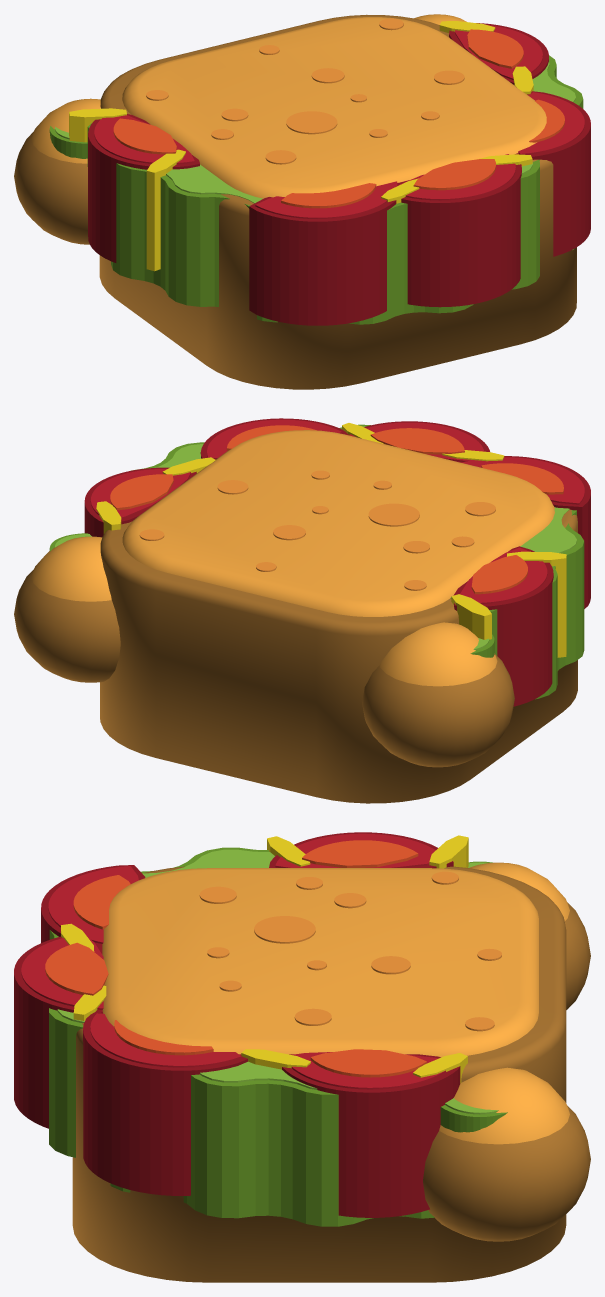
File: body_taco.fbx
The picture shows the model from 3 angles, top to bottom: view 1: azimuth 30°, elevation 25°; view 2: azimuth 150°, elevation 25°; view 3: azimuth 270°, elevation 25°; orthographic projection. The views are drawn at different scales.
Visible parts, largest first — view 1: body_taco_corpo, body_taco_mao_esq; view 2: body_taco_corpo, body_taco_mao_esq, body_taco_mao; view 3: body_taco_corpo, body_taco_mao, body_taco_mao_esq.
Boxes of the visible parts, x1,y1,x2,y2 form: body_taco_corpo: (69,14,590,389); body_taco_mao_esq: (14,98,100,244); body_taco_corpo: (84,418,590,803); body_taco_mao_esq: (362,622,514,767); body_taco_mao: (14,533,120,682); body_taco_corpo: (14,832,566,1282); body_taco_mao: (423,1067,590,1241); body_taco_mao_esq: (468,861,590,1009).
Bounding box in the file's own units: 5.4 × 2.02 × 4.68.
1 material, 1 textured.
